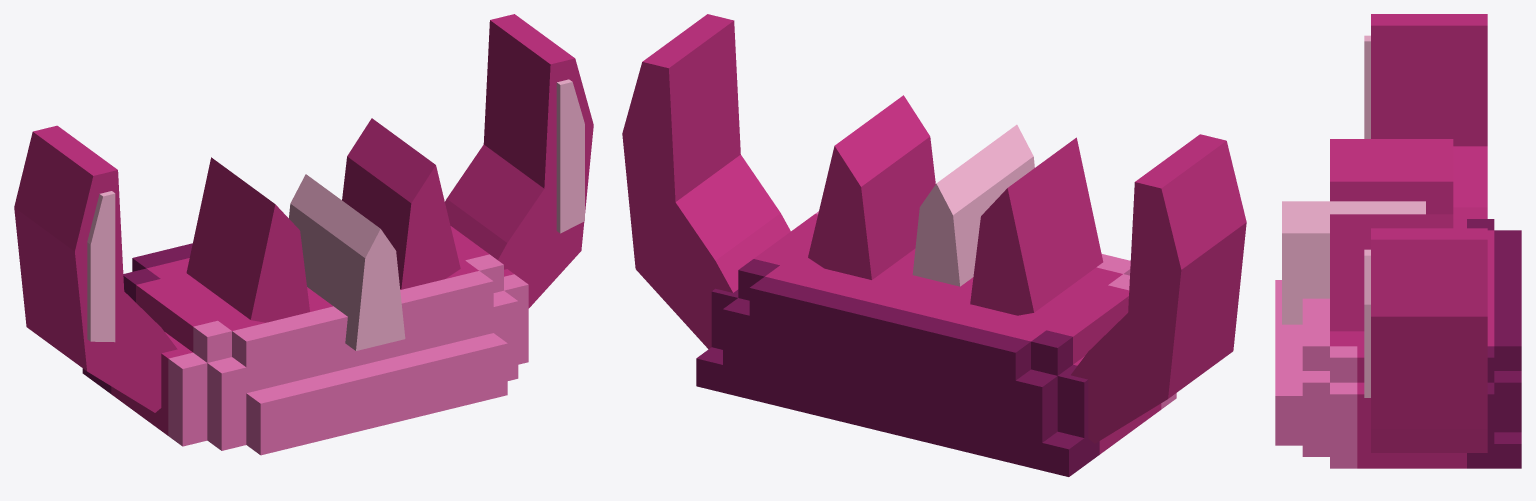
The model's file is aeon_hair.glb.
The picture shows the model from 3 angles, left to right: view 1: azimuth 30°, elevation 25°; view 2: azimuth 150°, elevation 25°; view 3: azimuth 270°, elevation 25°; orthographic projection. The views are drawn at different scales.
Parts seen in each view (by area): view 1: aeon_Hair.001; view 2: aeon_Hair.001; view 3: aeon_Hair.001.
Part boxes in pixels (box(x1,y1,x2,y2)): aeon_Hair.001: box(14, 14, 593, 455); aeon_Hair.001: box(622, 14, 1246, 476); aeon_Hair.001: box(1275, 14, 1521, 468).
Size of the model in its own units: 1.13 by 0.7789 by 0.4834.
Materials: 4 (4 with a texture image).
